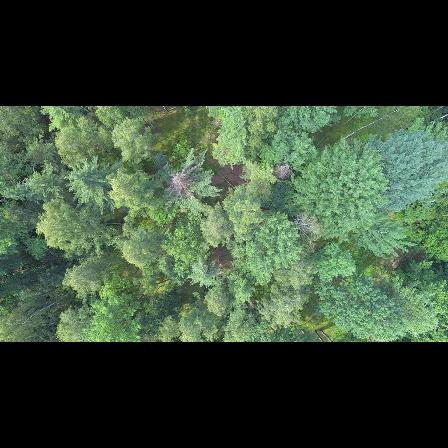Dead: (164, 161, 198, 200), (288, 214, 321, 242), (269, 158, 296, 181)
